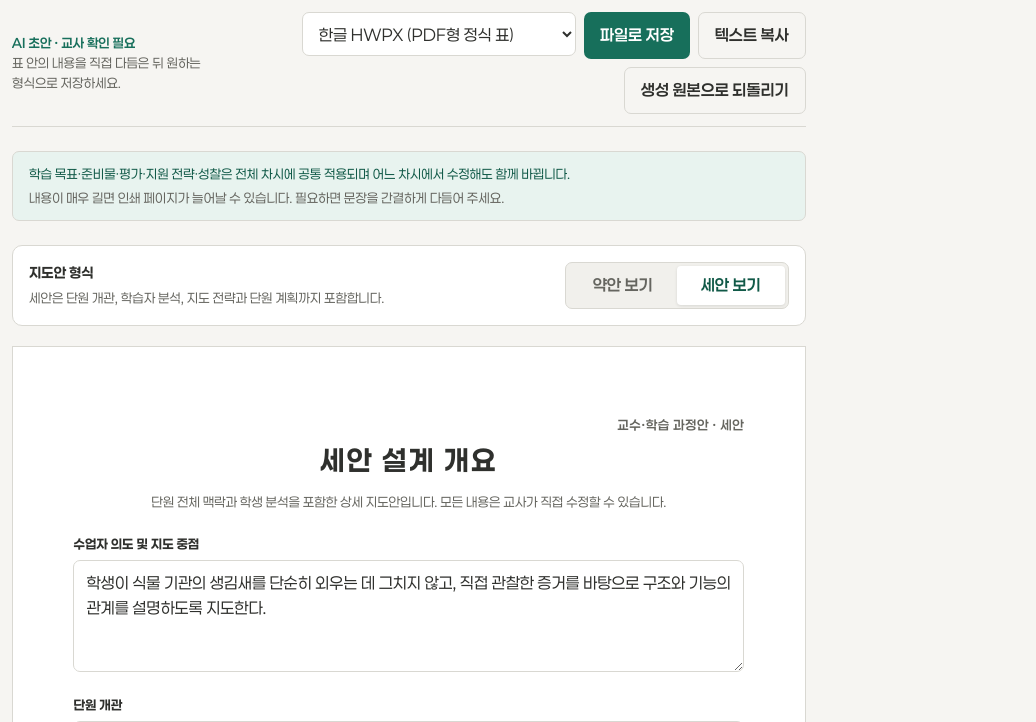
Test: announces a clipboard failure without an unhandled rejection
Click the button "텍스트 복사": (752, 35) [698, 12, 806, 59]
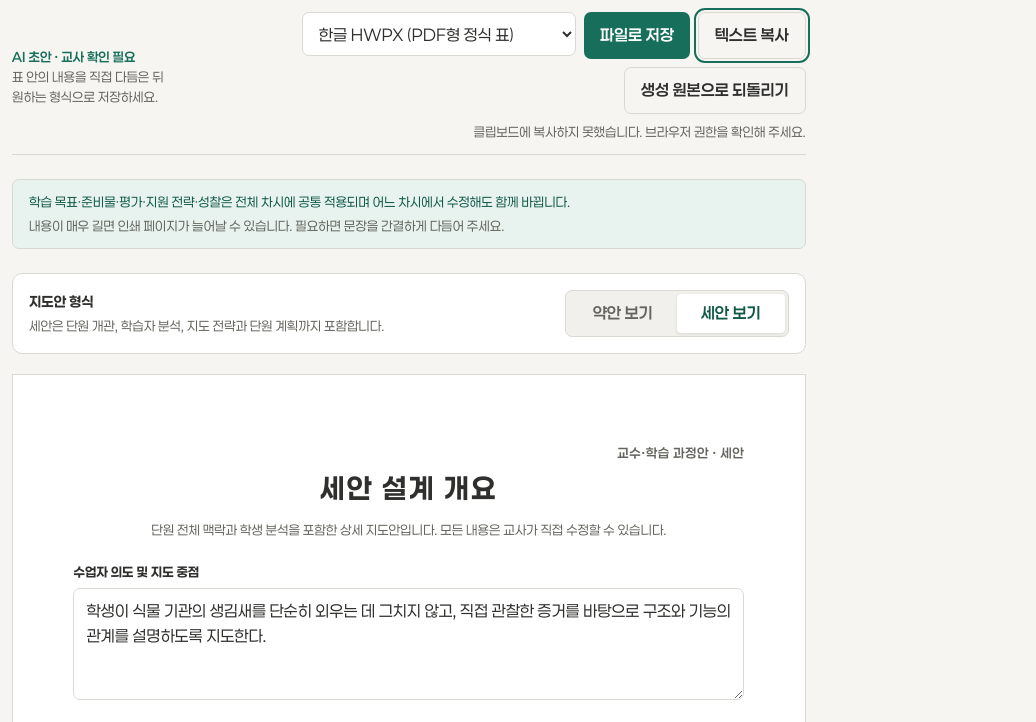
Expected: the message shows "클립보드에 복사하지 못했습니다.", [474, 124, 806, 140]
